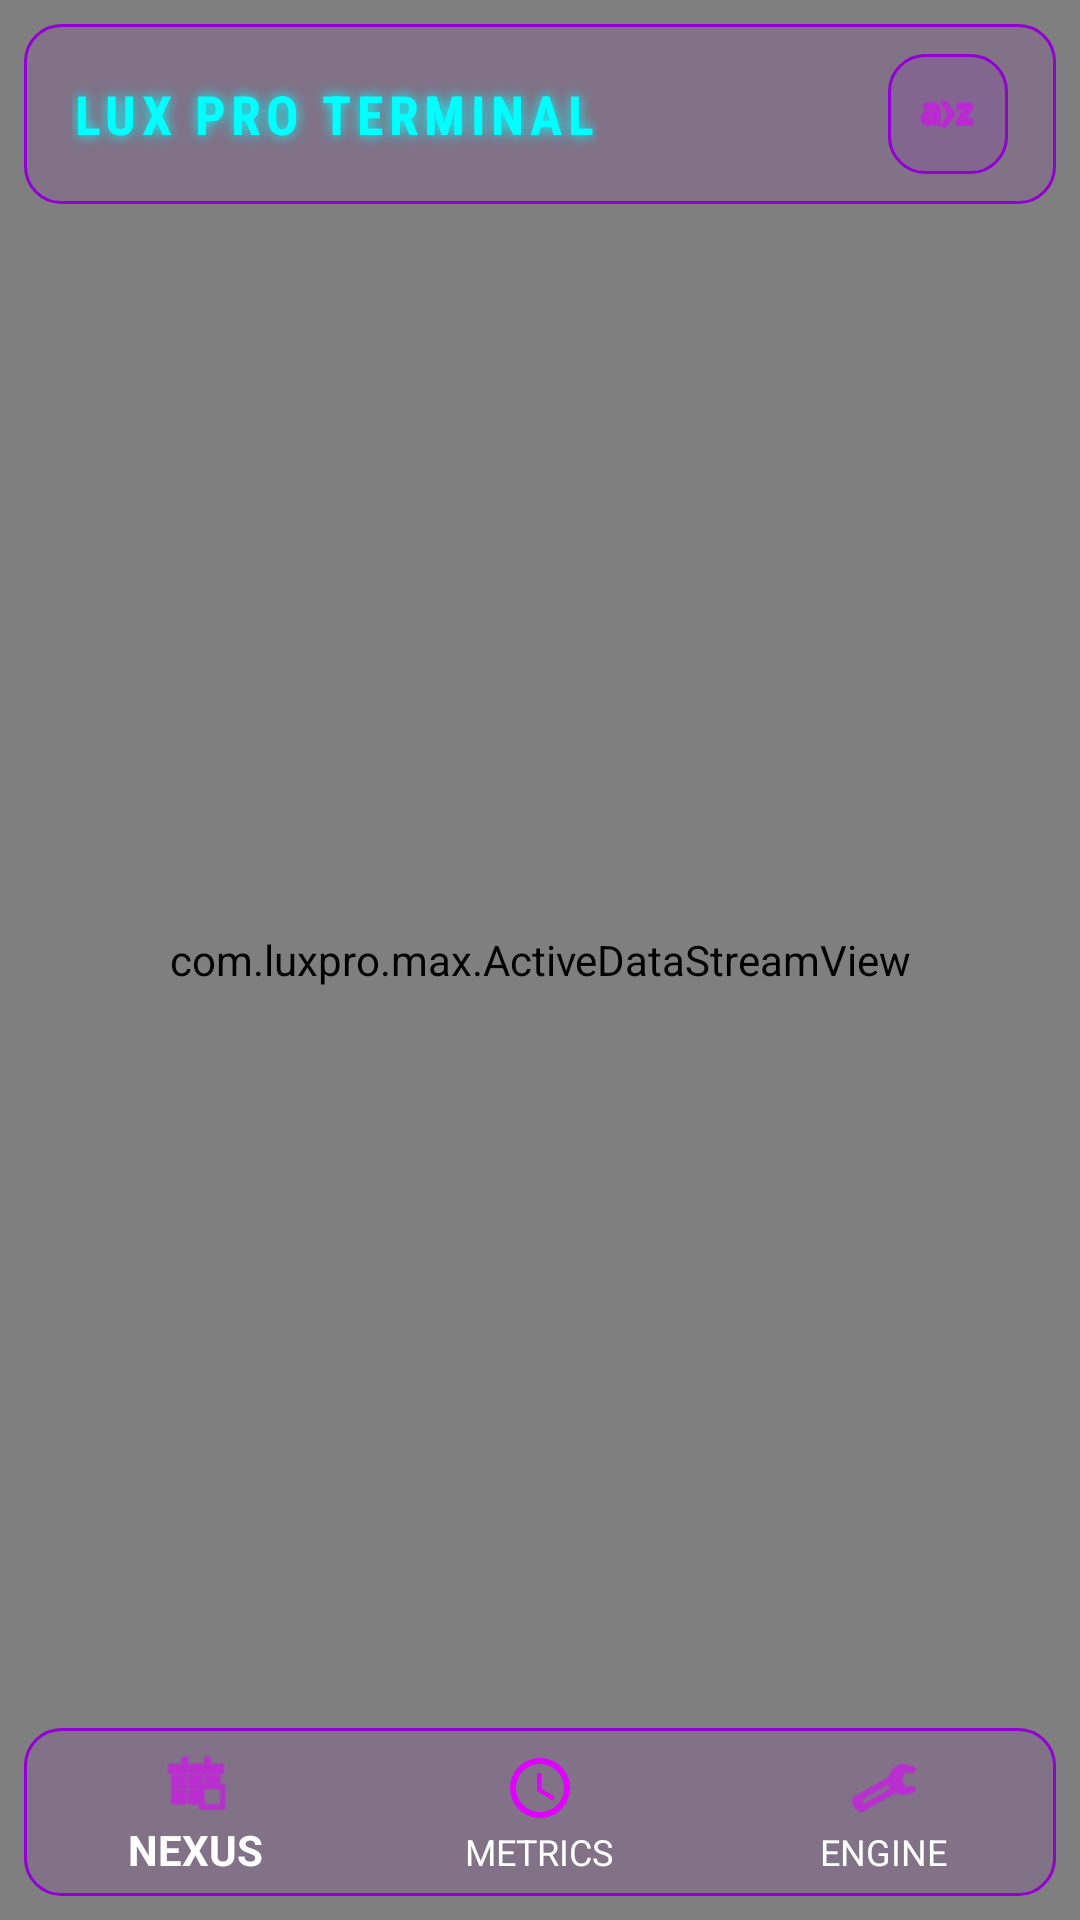

Point at icon controls on the screen. Image size 1080px x 1920px, points as [x,y].
Toggle Language: [948,114]
